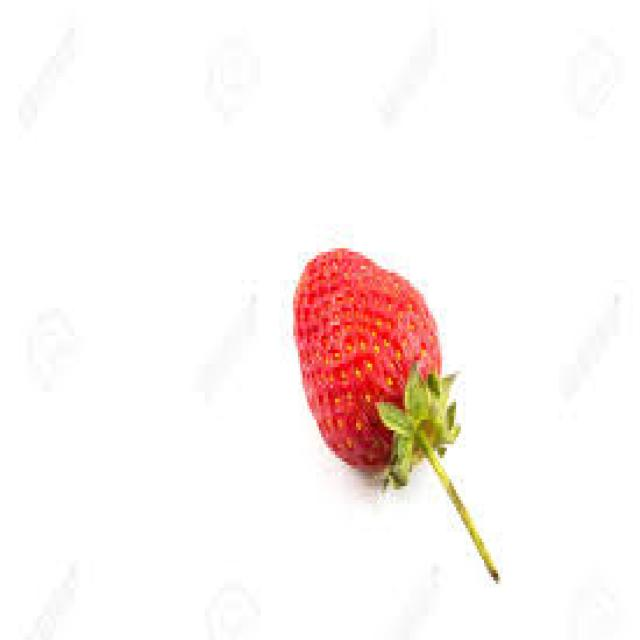strawberry: (274, 208, 520, 611)
